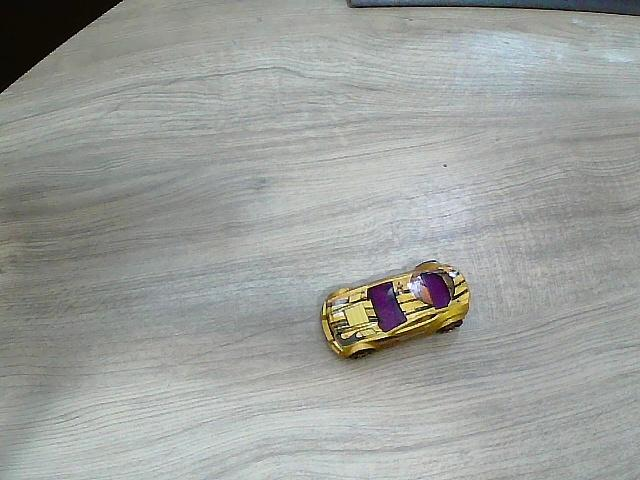Carro: (320, 262, 471, 359)
